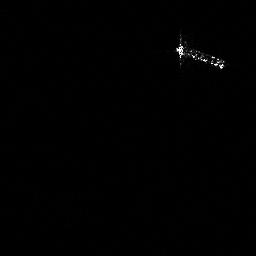ship: (172, 27, 229, 72)
